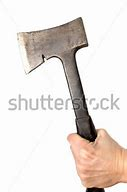axe: (15, 14, 111, 192)
